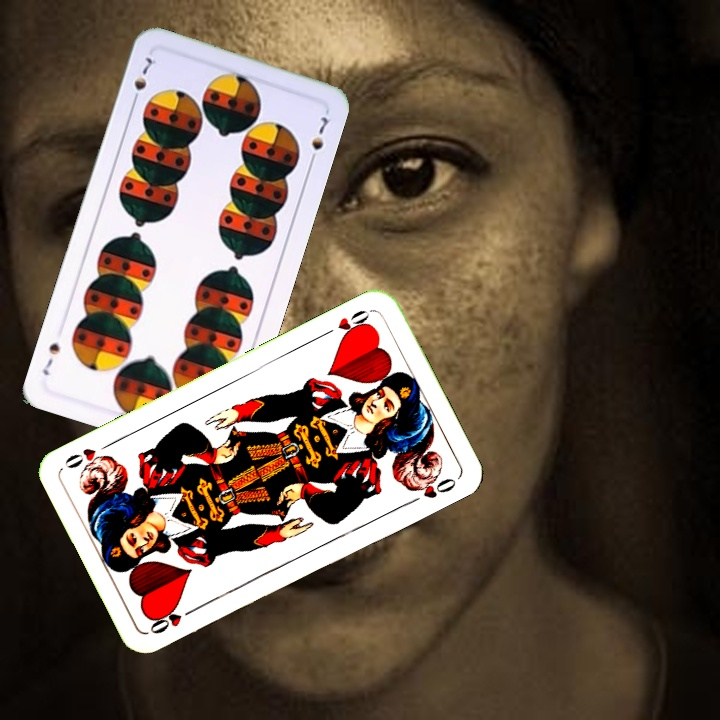HO: (319, 305, 374, 342), (145, 602, 200, 637)
S7: (128, 53, 159, 107)
